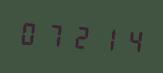four: (118, 22, 142, 57)
one: (93, 20, 117, 55)
seven: (43, 17, 67, 51)
two: (68, 19, 92, 53)
zero: (18, 15, 42, 50)
